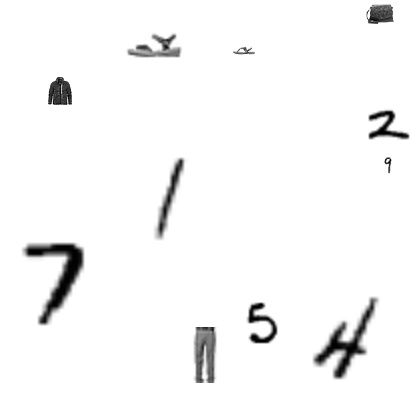1: (111, 139, 223, 251)
2: (357, 97, 413, 153)
4: (290, 286, 402, 398)
5: (233, 295, 289, 351)
7: (3, 216, 115, 328)
9: (377, 152, 399, 174)
Bag: (366, 0, 394, 28)
Coat: (46, 77, 74, 105)
Sandal: (126, 17, 182, 73), (233, 39, 255, 61)
Trouser: (176, 327, 232, 383)
